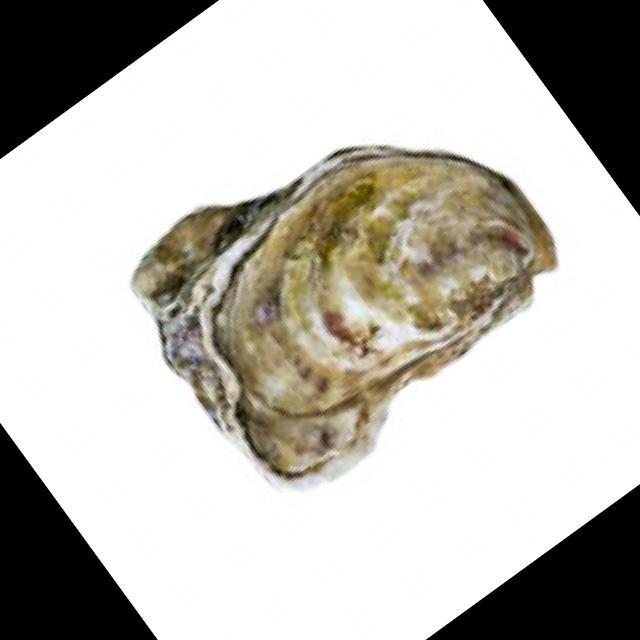Oyster- Indeterminate: (129, 148, 558, 482)
